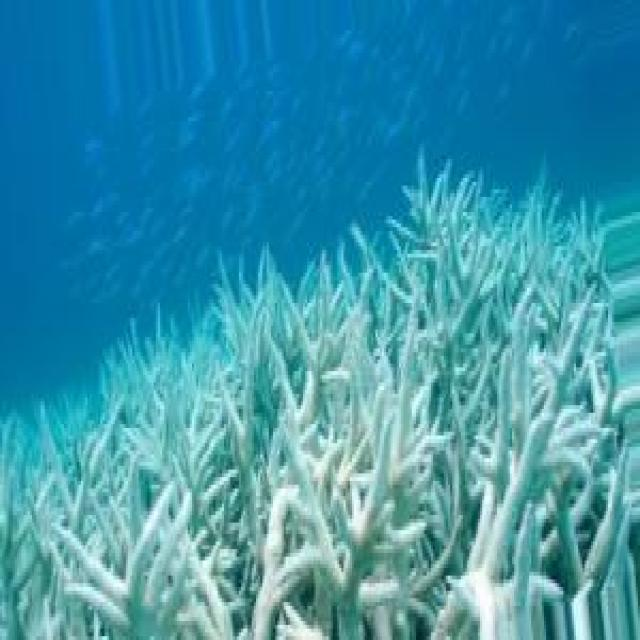bleached coral: (0, 171, 640, 638)
